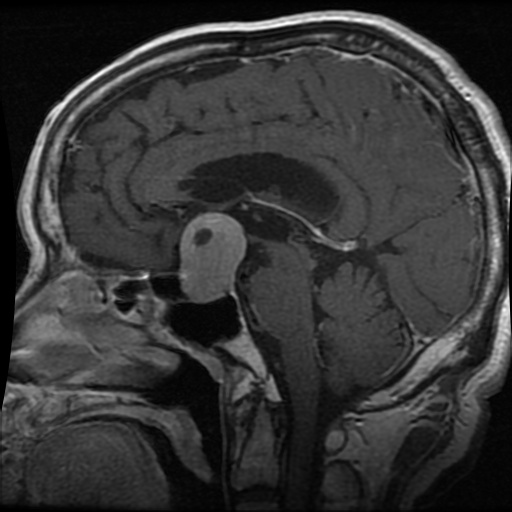pituitary: (179, 211, 247, 303)
